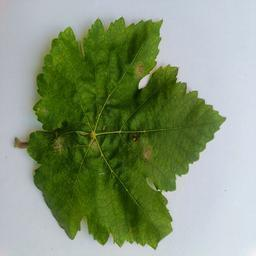Powdery-Mildew: (98, 197, 135, 237), (128, 58, 145, 75), (142, 145, 159, 162), (86, 133, 102, 150), (51, 135, 67, 151)
